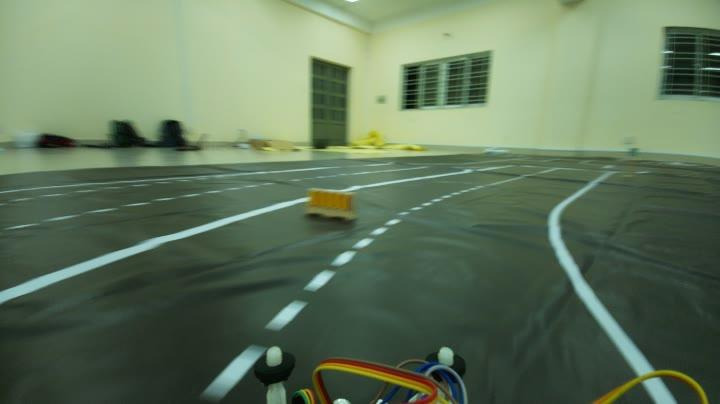roadblock: (293, 183, 363, 221)
